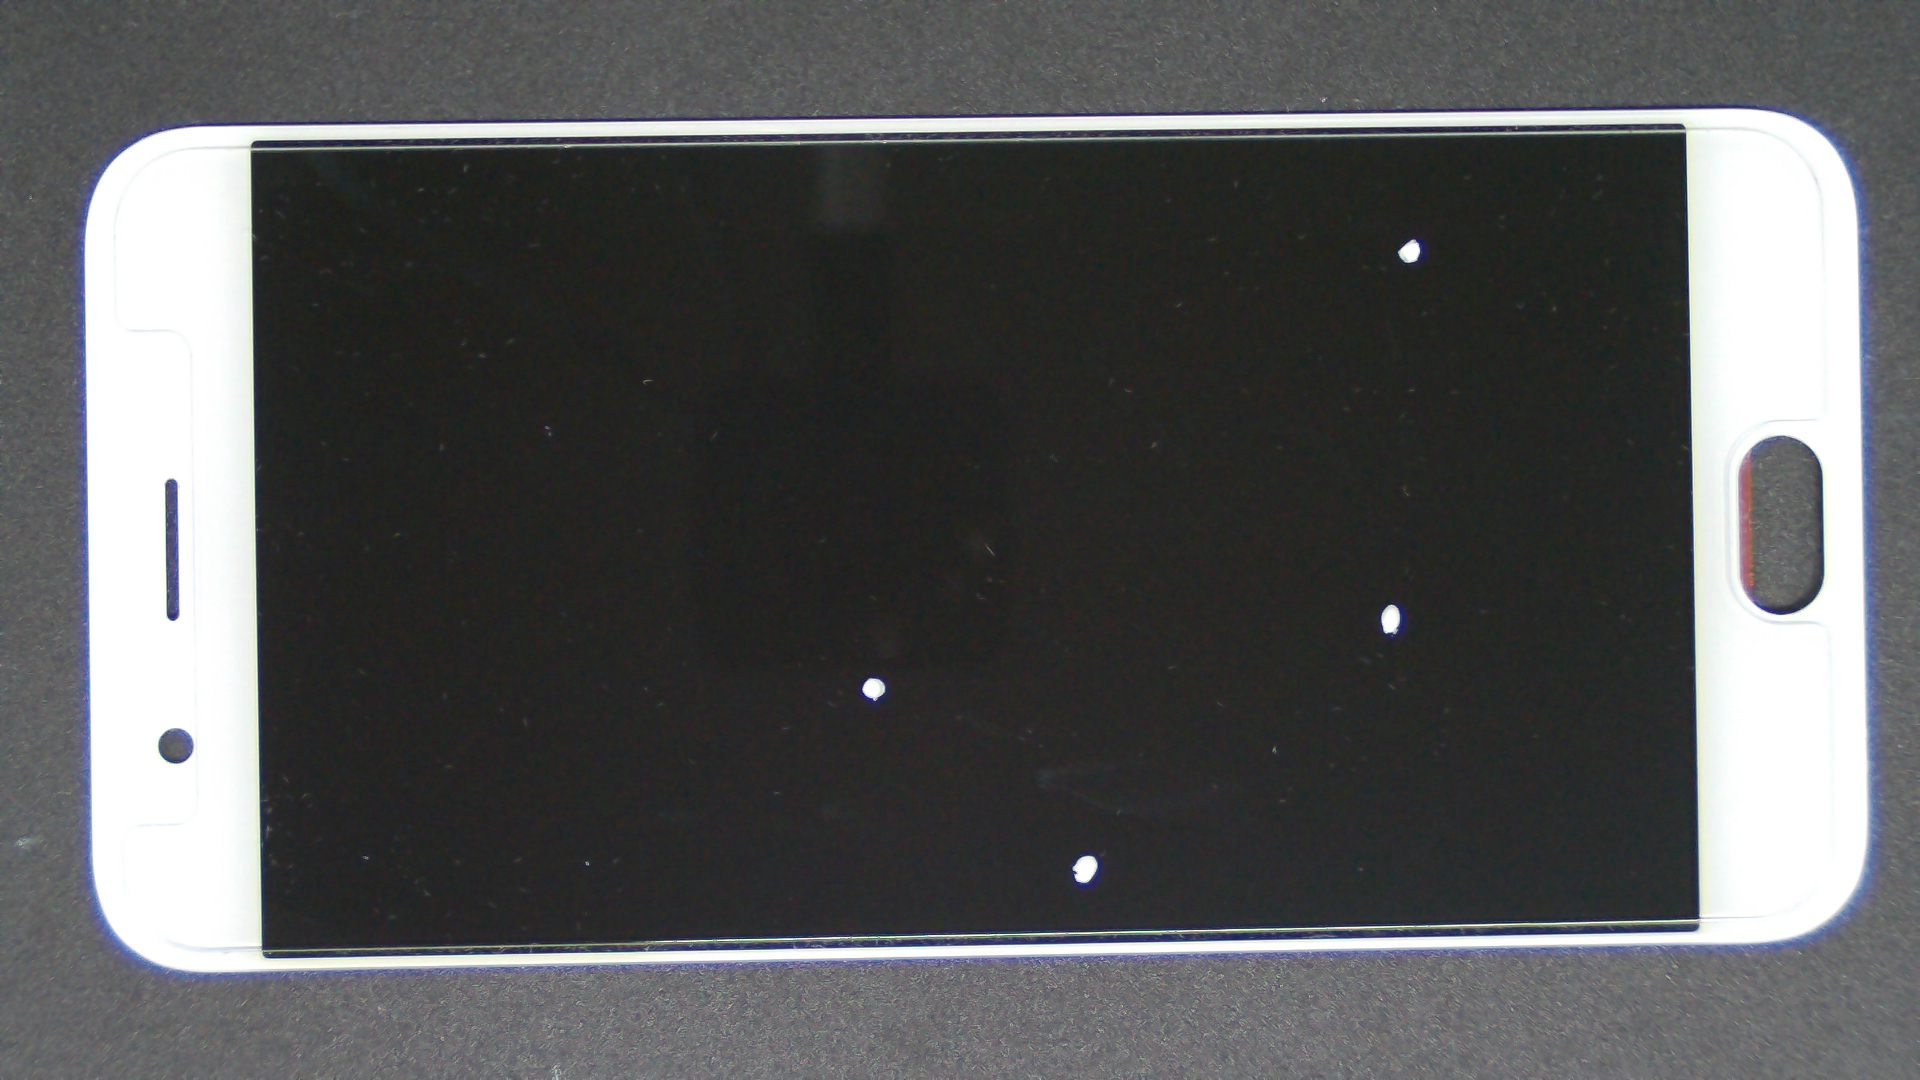oil: (696, 301, 1920, 905), (547, 426, 1639, 1080), (436, 338, 1308, 1014), (707, 117, 1920, 355)
